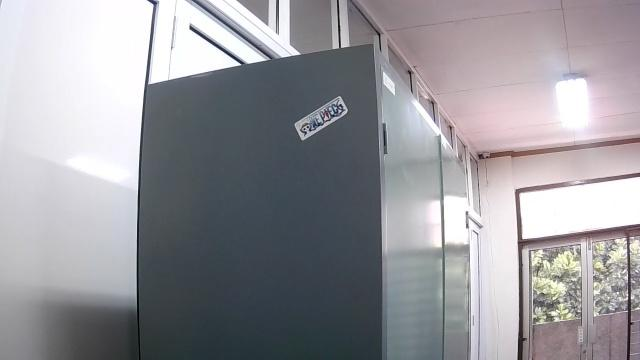Lemari: (135, 42, 470, 359)
